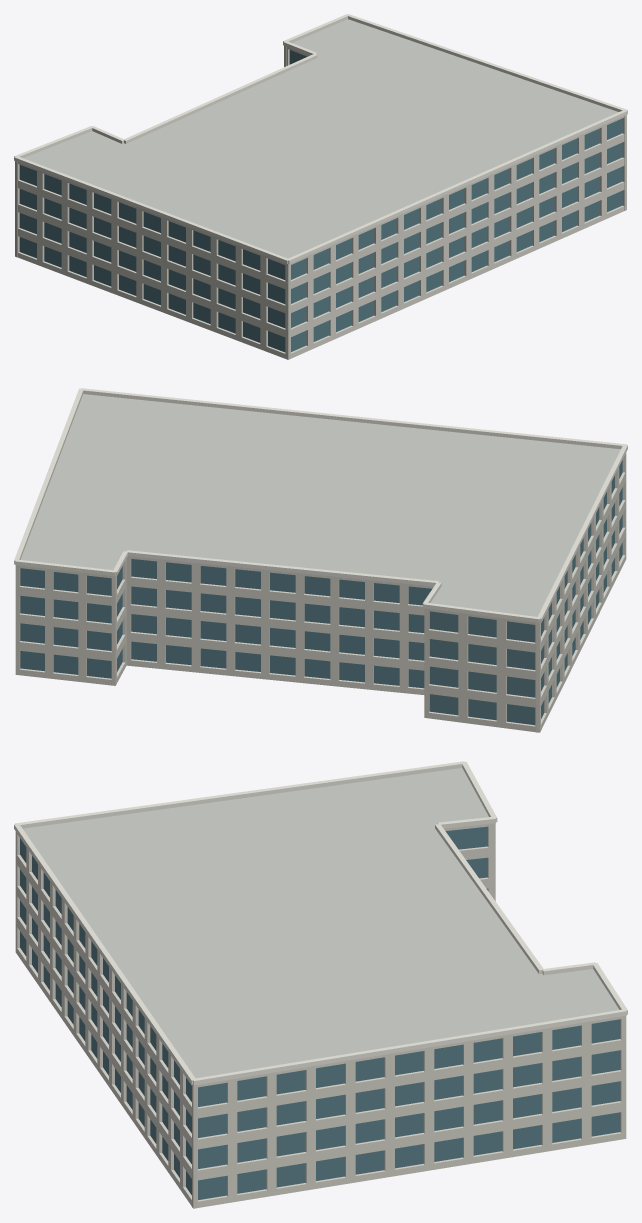
The model's file is sb_1556514411.far.glb.
3 renders of one model, top to bottom at view 1: azimuth 30°, elevation 25°; view 2: azimuth 150°, elevation 25°; view 3: azimuth 270°, elevation 25°, orthographic. The views are drawn at different scales.
Visible parts, largest first — view 1: roof, wall, glass, trim; view 2: roof, wall, glass, trim; view 3: roof, wall, glass, trim.
Part boxes in pixels (bbox=[...]): roof: bbox=[23, 19, 618, 258]; wall: bbox=[15, 46, 626, 359]; glass: bbox=[19, 50, 622, 352]; trim: bbox=[14, 14, 627, 263]; roof: bbox=[20, 394, 620, 616]; wall: bbox=[15, 453, 626, 732]; glass: bbox=[20, 460, 622, 725]; trim: bbox=[14, 388, 627, 622]; roof: bbox=[23, 768, 619, 1078]; wall: bbox=[15, 823, 626, 1208]; glass: bbox=[20, 826, 620, 1199]; trim: bbox=[14, 761, 627, 1085].
Size of the model in its own units: 69.67 by 13.04 by 56.52.
